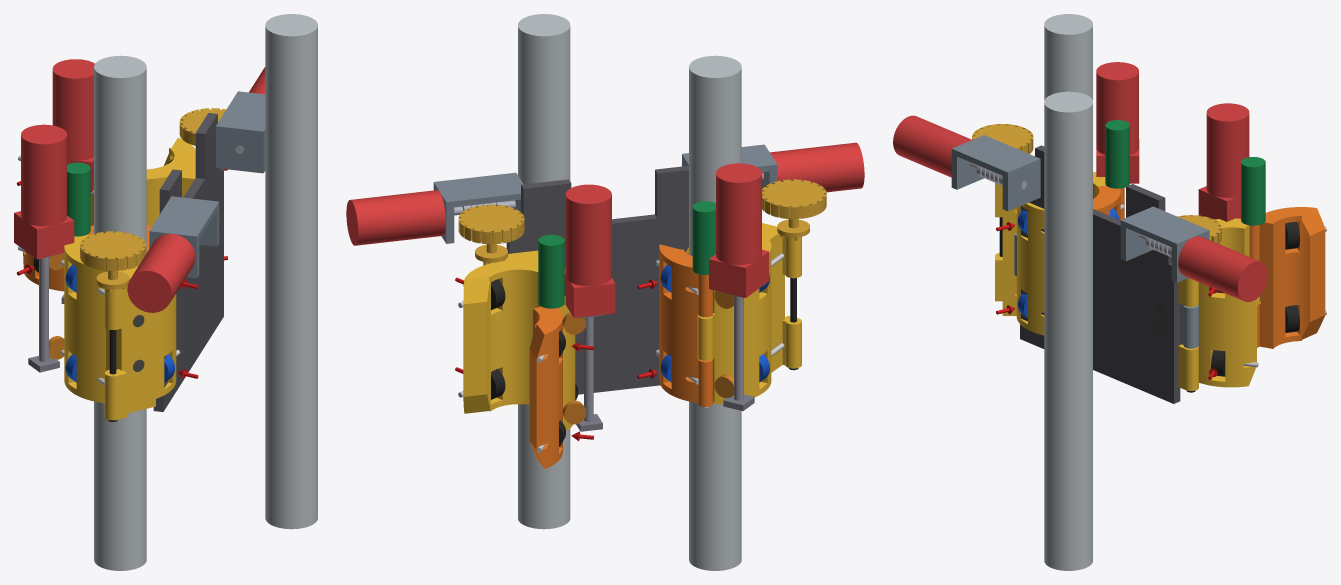
Rendered from sleeves_transfer.glb.
The picture shows the model from 3 angles, left to right: view 1: azimuth 30°, elevation 25°; view 2: azimuth 150°, elevation 25°; view 3: azimuth 270°, elevation 25°; orthographic projection. The views are drawn at different scales.
Visible parts, largest first — view 1: track_pipe_C, track_pipe_B, base_plate, static_B_sleeve, hinge_B_sleeve_leaf_knuckles, static_B_drive_motor, released_C_drive_motor, hinge_B_worm_motor, hinge_C_worm_bracket, hinge_B_worm_bracket, hinge_B_worm_wheel_hub, released_C_sleeve (+7 smaller); view 2: track_pipe_B, base_plate, track_pipe_C, released_C_sleeve, static_B_sleeve, static_B_jaw, released_C_jaw, released_C_drive_motor, hinge_C_worm_motor, static_B_drive_motor, hinge_B_worm_motor, hinge_C_worm_wheel_hub (+13 smaller); view 3: track_pipe_C, base_plate, released_C_jaw, released_C_sleeve, static_B_sleeve, hinge_B_worm_bracket, track_pipe_B, hinge_C_worm_motor, released_C_drive_motor, hinge_C_worm_bracket, static_B_drive_motor, hinge_B_worm_motor (+11 smaller).
Part boxes in pixels (<box>): track_pipe_C: <box>265,14,317,529</box>; track_pipe_B: <box>94,55,146,570</box>; base_plate: <box>153,113,223,411</box>; static_B_sleeve: <box>64,234,176,403</box>; hinge_B_sleeve_leaf_knuckles: <box>104,275,155,420</box>; static_B_drive_motor: <box>21,124,66,226</box>; released_C_drive_motor: <box>52,59,94,160</box>; hinge_B_worm_motor: <box>127,233,195,312</box>; hinge_C_worm_bracket: <box>216,91,265,173</box>; hinge_B_worm_bracket: <box>149,196,219,278</box>; hinge_B_worm_wheel_hub: <box>80,231,145,292</box>; released_C_sleeve: <box>90,138,195,226</box>; track_pipe_B: <box>689,55,741,570</box>; base_plate: <box>506,165,688,394</box>; track_pipe_C: <box>518,14,570,529</box>; released_C_sleeve: <box>463,252,575,430</box>; static_B_sleeve: <box>686,225,782,404</box>; static_B_jaw: <box>659,244,712,406</box>; released_C_jaw: <box>529,306,562,468</box>; released_C_drive_motor: <box>565,184,611,286</box>; hinge_C_worm_motor: <box>346,190,445,245</box>; static_B_drive_motor: <box>716,163,761,264</box>; hinge_B_worm_motor: <box>762,142,864,192</box>; hinge_C_worm_wheel_hub: <box>458,204,524,264</box>; track_pipe_C: <box>1044,91,1092,570</box>; base_plate: <box>1020,145,1180,403</box>; released_C_jaw: <box>1249,207,1325,348</box>; released_C_sleeve: <box>1198,218,1260,387</box>; static_B_sleeve: <box>1007,171,1105,335</box>; hinge_B_worm_bracket: <box>951,135,1040,211</box>; track_pipe_B: <box>1044,14,1092,100</box>; hinge_C_worm_motor: <box>1178,236,1267,302</box>; released_C_drive_motor: <box>1206,103,1249,197</box>; hinge_C_worm_bracket: <box>1120,206,1209,282</box>; static_B_drive_motor: <box>1096,62,1138,154</box>; hinge_B_worm_motor: <box>893,115,971,177</box>.
Size of the model in its own units: 245 by 330 by 283.
